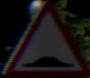Speed Breaker ahead: (14, 7, 74, 68)
